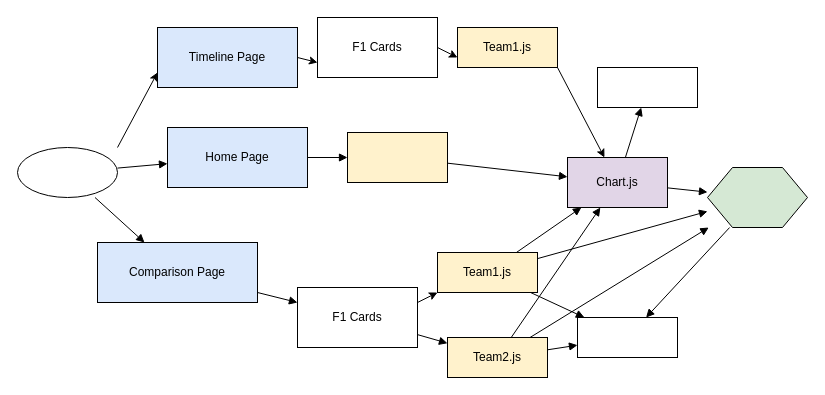
Some shapes in this 825 by 395 pixel diagram are drawn without their labels. Here are the shapes that lost their labels. From the top down, the centre of each, then its label:
At point 647,87: "Comparison".
At point 67,172: "User".
At point 397,157: "preview.js".
At point 757,197: "F1 API".
At point 627,337: "Team".
